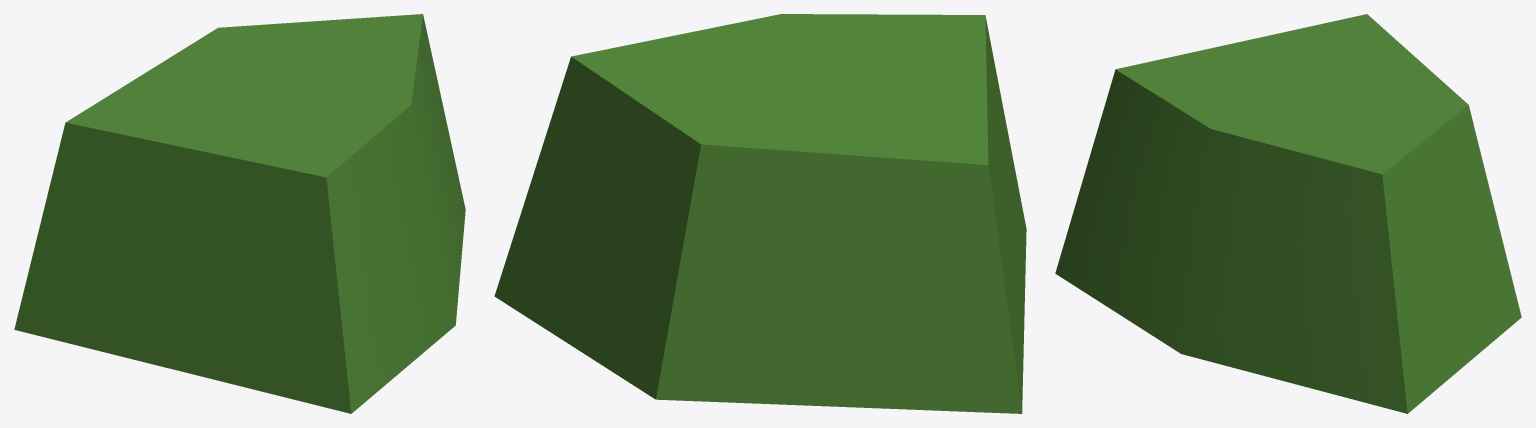
File: grass_layer_crumb_spec_A.fbx
3 renders of one model, left to right at view 1: azimuth 30°, elevation 25°; view 2: azimuth 150°, elevation 25°; view 3: azimuth 270°, elevation 25°, orthographic. The views are drawn at different scales.
Parts seen in each view (by area): view 1: grass_layer_crumb_spec_A; view 2: grass_layer_crumb_spec_A; view 3: grass_layer_crumb_spec_A.
Boxes of the visible parts, bbox=[...] form: grass_layer_crumb_spec_A: bbox=[14, 14, 465, 413]; grass_layer_crumb_spec_A: bbox=[494, 14, 1026, 413]; grass_layer_crumb_spec_A: bbox=[1055, 14, 1521, 413].
Size of the model in its own units: 33.69 by 15.25 by 30.25.
